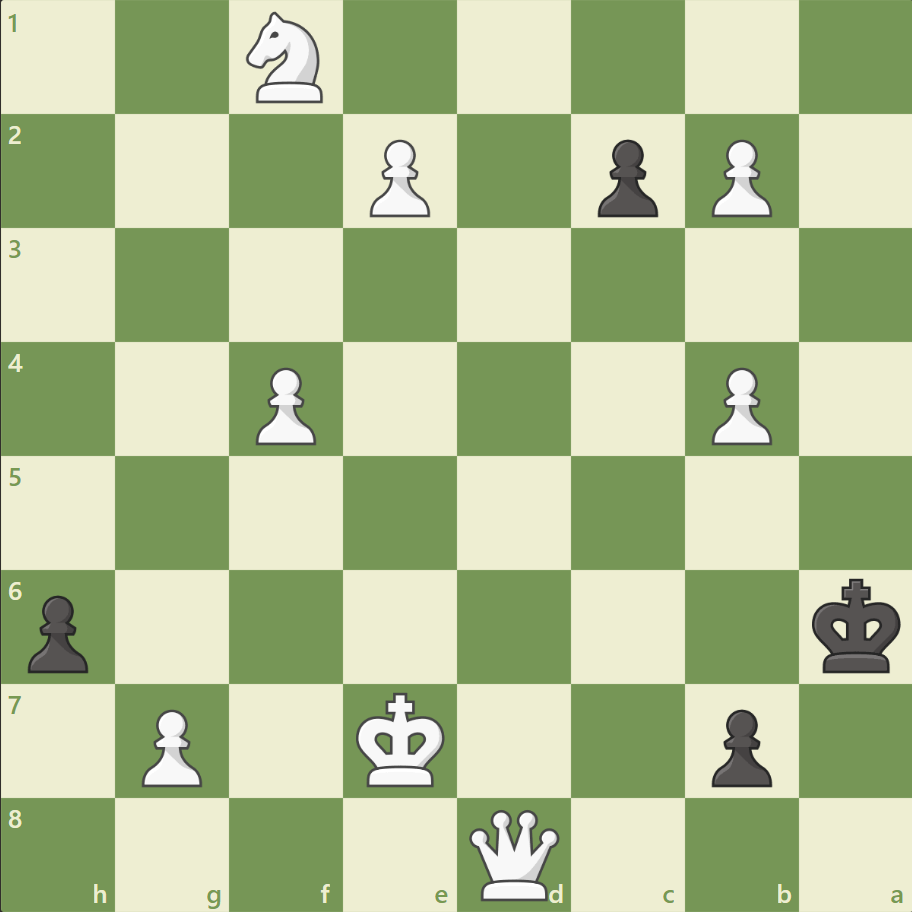K: (351, 685, 451, 793)
N: (238, 7, 335, 110)
P: (133, 700, 208, 791), (701, 359, 776, 450), (247, 359, 322, 450), (701, 132, 776, 223), (361, 132, 435, 223)
Q: (464, 804, 563, 903)
k: (806, 571, 906, 679)
p: (701, 700, 776, 791), (20, 586, 95, 677), (588, 132, 662, 223)
